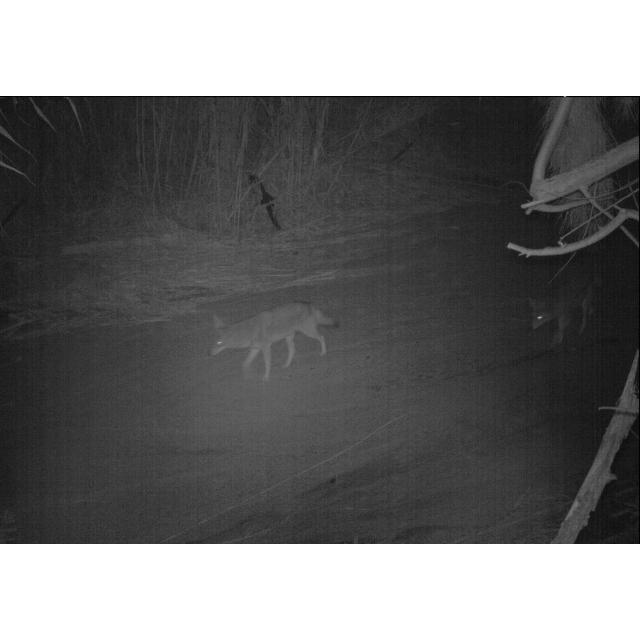animals: (209, 300, 337, 380), (528, 286, 606, 348)
